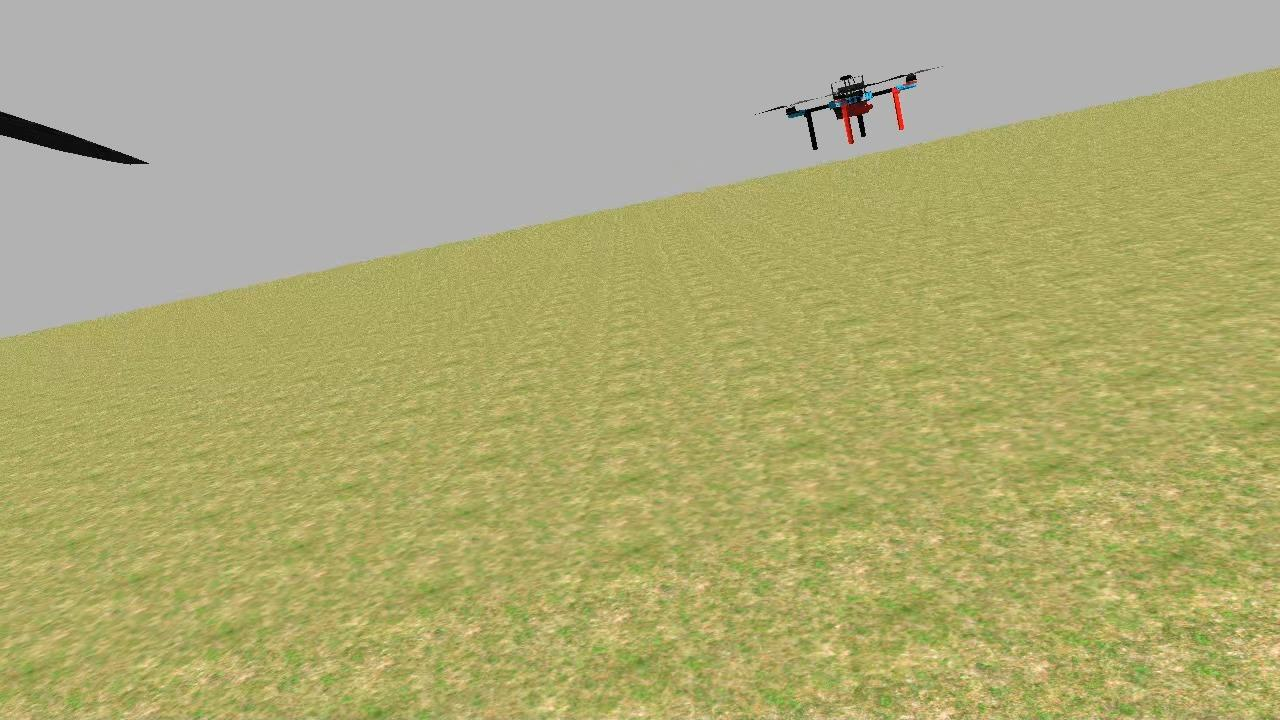UAV: (743, 52, 967, 167)
